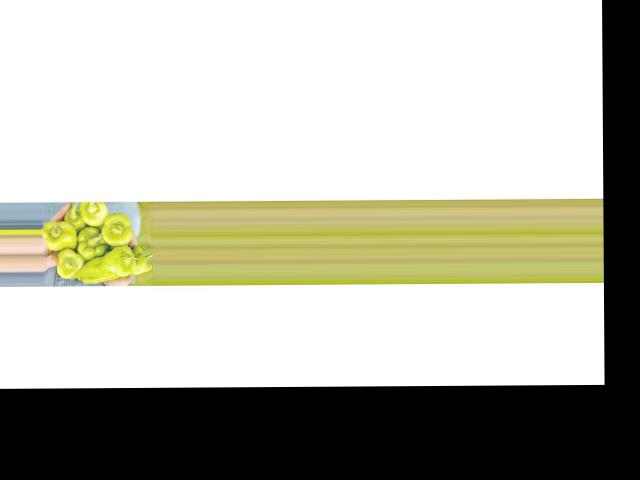bell_pepper: (43, 217, 78, 249)
